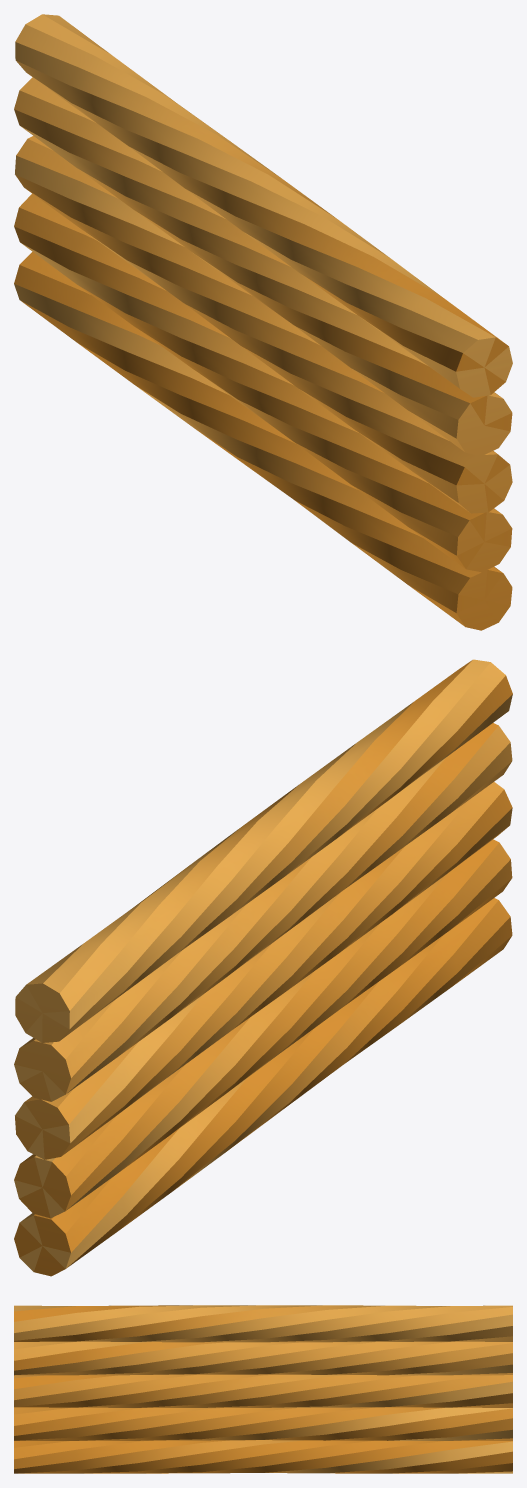
The model's file is WallSecond_whole.fbx.
3 views of the same model, one above another, from view 1: azimuth 30°, elevation 25°; view 2: azimuth 150°, elevation 25°; view 3: azimuth 270°, elevation 25° (orthographic). The views are drawn at different scales.
Visible parts, largest first — view 1: g_wall14; view 2: g_wall14; view 3: g_wall14.
Boxes of the visible parts, x1,y1,x2,y2 form: g_wall14: [14, 14, 512, 630]; g_wall14: [14, 659, 512, 1276]; g_wall14: [14, 1305, 512, 1473].
Size of the model in its own units: 0.3705 by 1.81 by 4.96.
